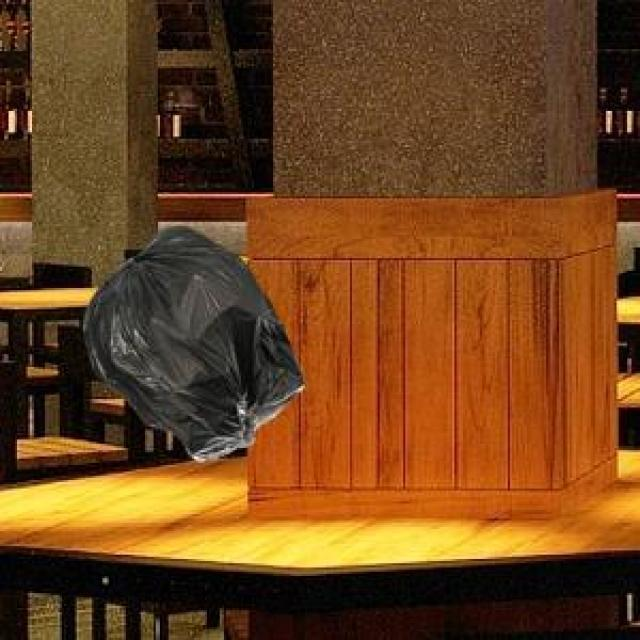waste: (84, 228, 304, 461)
